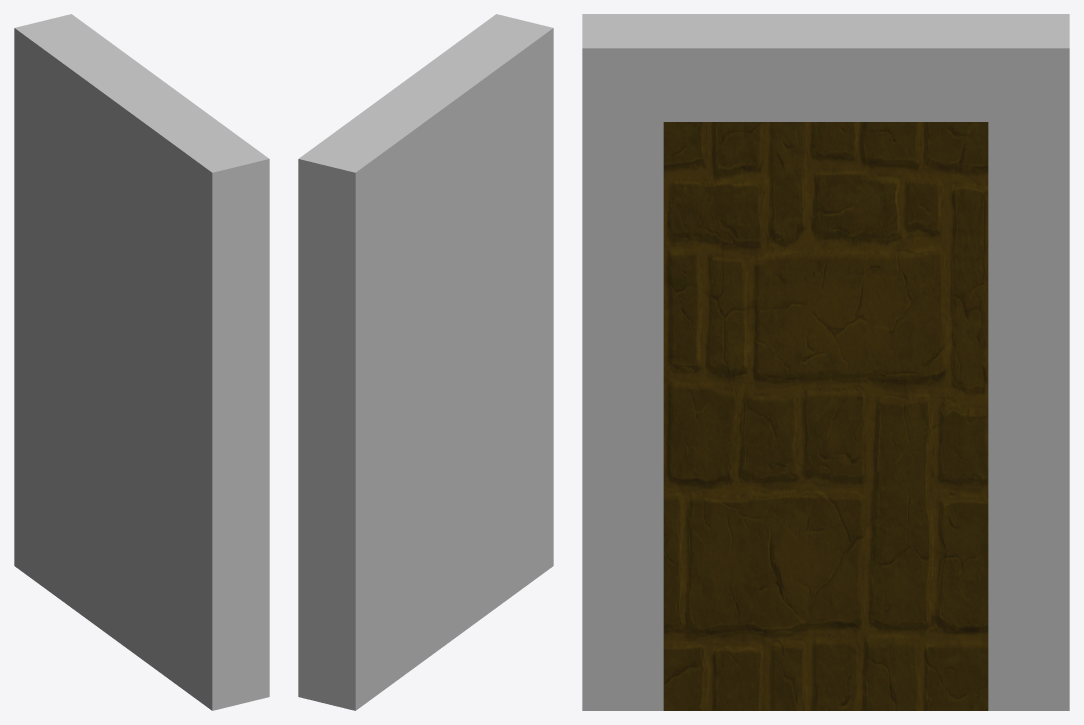
File: WallShortDouble.fbx
3 views of the same model, side by side, from view 1: azimuth 30°, elevation 25°; view 2: azimuth 150°, elevation 25°; view 3: azimuth 270°, elevation 25° (orthographic). The views are drawn at different scales.
Parts seen in each view (by area): view 1: WallShortDouble; view 2: WallShortDouble; view 3: WallShortDouble.
Part boxes in pixels (bbox=[...]): WallShortDouble: bbox=[14, 14, 269, 710]; WallShortDouble: bbox=[298, 14, 553, 710]; WallShortDouble: bbox=[582, 14, 1069, 710].
Bounding box in the file's own units: 1 × 9 × 6.
